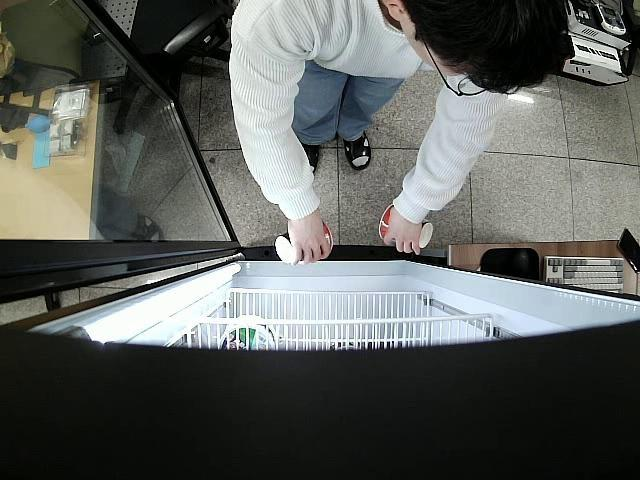02_shinRamen_S: (378, 200, 433, 252), (276, 221, 333, 266)
